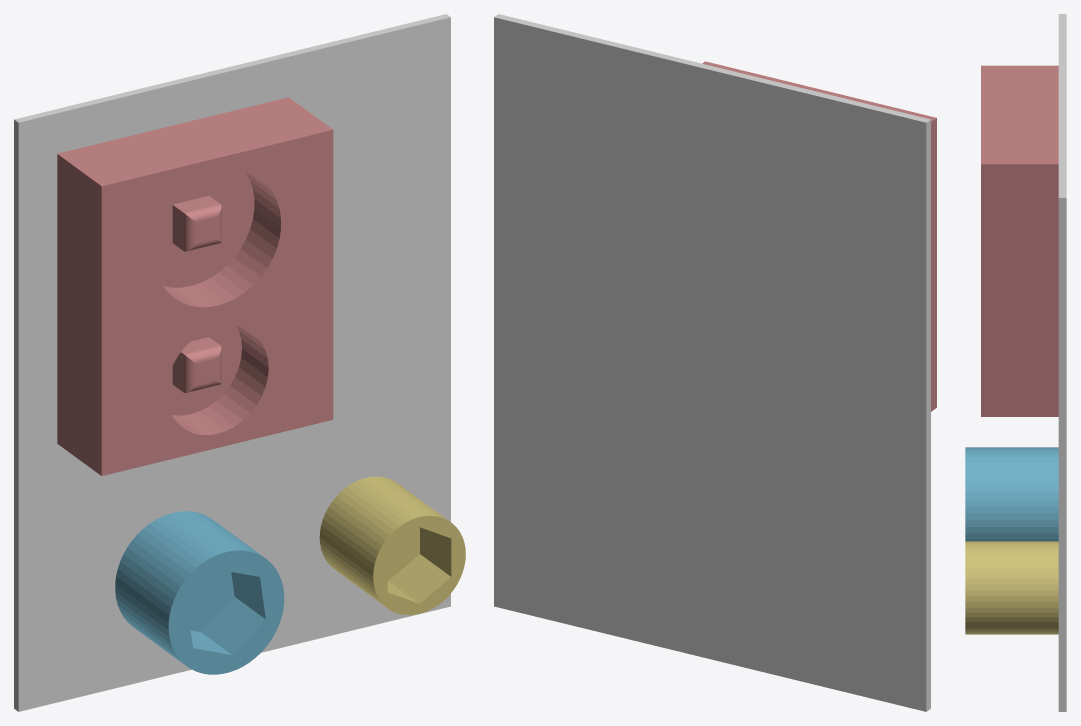
Rendered from pickup_layout.glb.
3 views of the same model, side by side, from view 1: azimuth 30°, elevation 25°; view 2: azimuth 150°, elevation 25°; view 3: azimuth 270°, elevation 25° (orthographic). The views are drawn at different scales.
Parts seen in each view (by area): view 1: world, 0.obj, 2.obj, 1.obj; view 2: world, 0.obj; view 3: 0.obj, 2.obj, 1.obj, world.
Part boxes in pixels (x1,y1,x2,y2): world: [14, 14, 450, 711]; 0.obj: [57, 97, 333, 475]; 2.obj: [115, 511, 284, 674]; 1.obj: [319, 476, 465, 615]; world: [494, 14, 930, 711]; 0.obj: [702, 61, 936, 411]; 0.obj: [981, 65, 1058, 416]; 2.obj: [965, 447, 1058, 541]; 1.obj: [965, 541, 1058, 634]; world: [1058, 14, 1066, 711].
Size of the model in its own units: 11.2 by 14.58 by 2.6.
